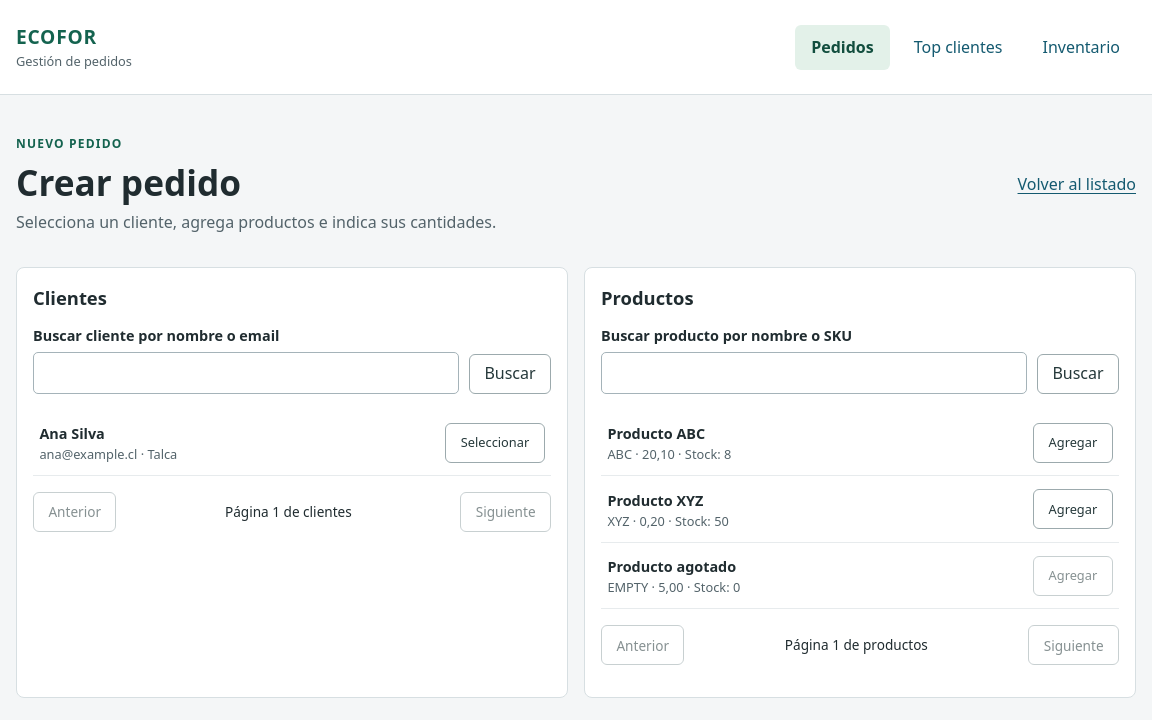
Scenario: Creación › no repite automáticamente un POST cuando se pierde la respuesta
Click the button named "Seleccionar Ana Silva" at [495, 442], box [445,422,545,462]
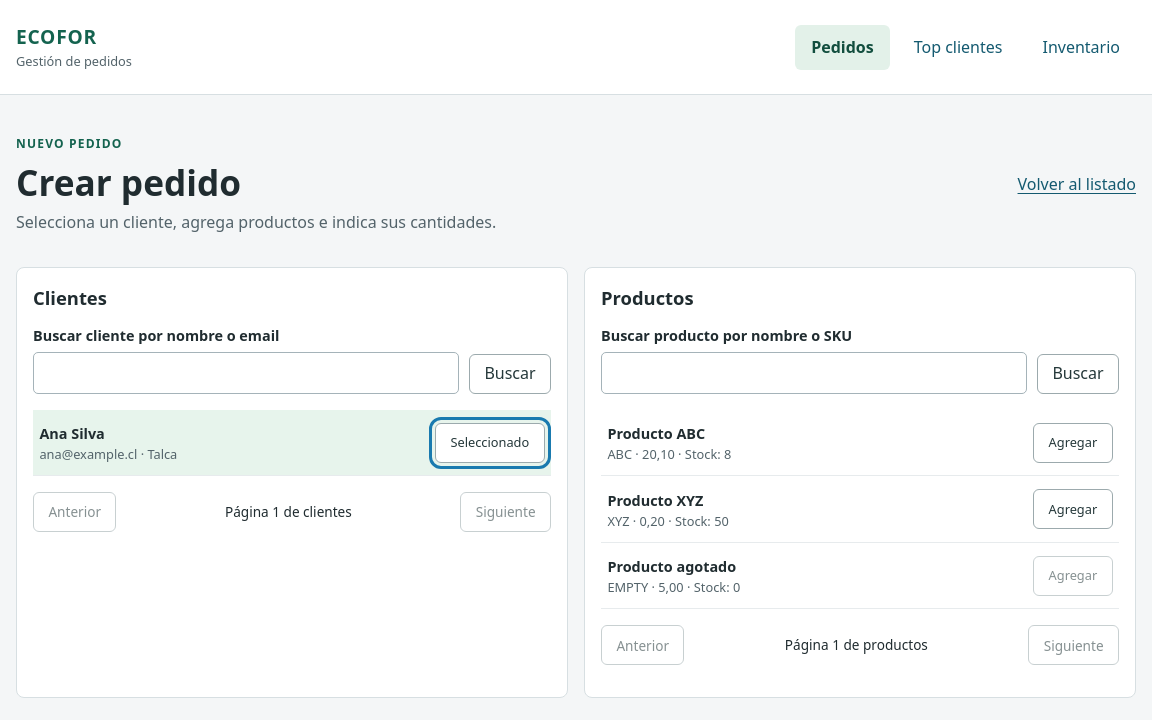
Click the button named "Agregar Producto ABC" at [1073, 442], box [1033,422,1113,462]
(page scrolled)
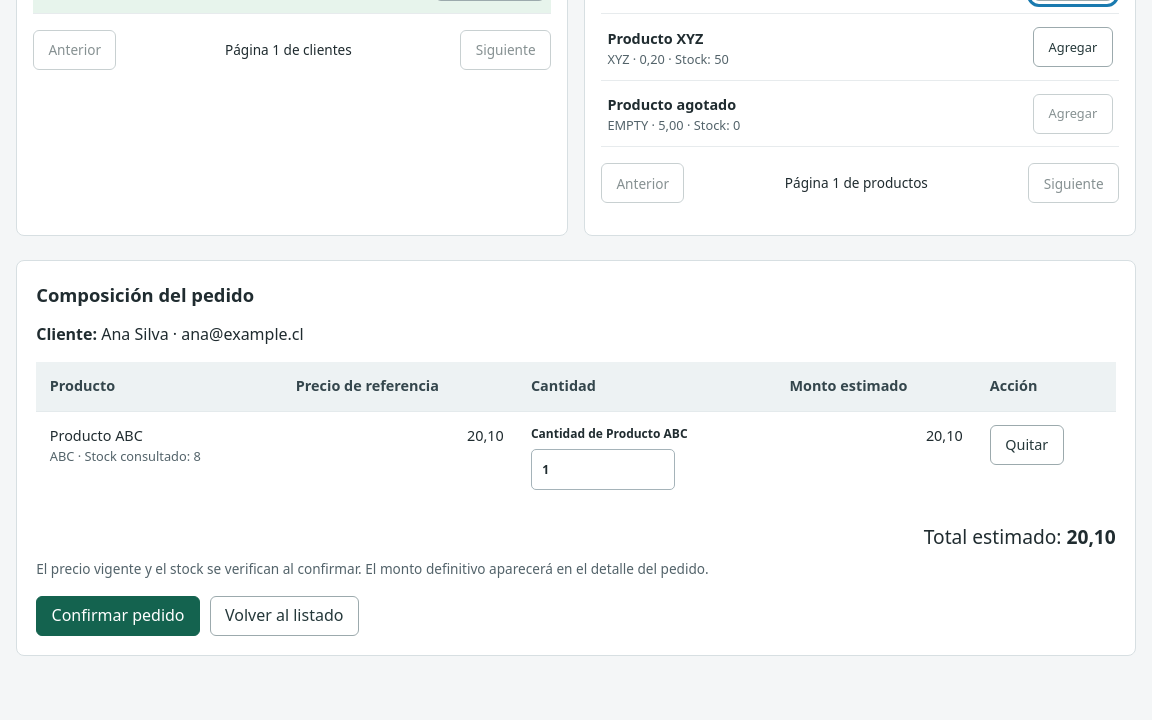
Click the button "Confirmar pedido" at [118, 616], box [36,596,200,636]
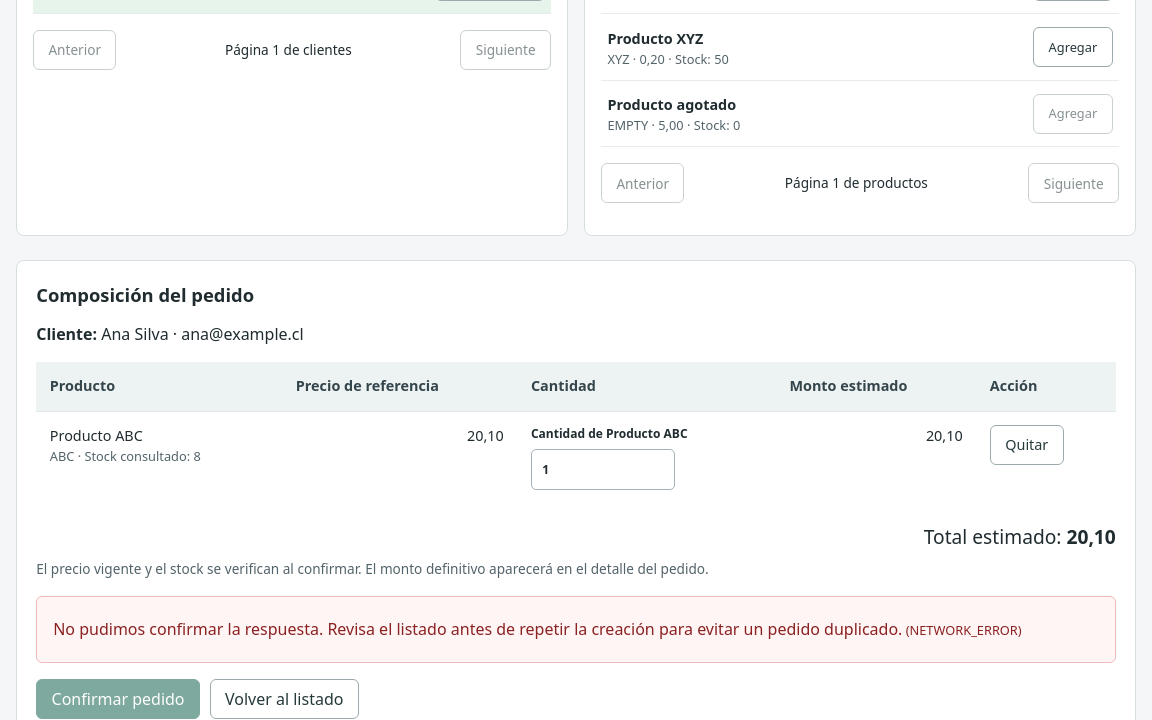
Result: the message shows "Revisa el listado" at [53,618,902,640]
Result: the button "Confirmar pedido" is disabled at [36,679,200,719]
